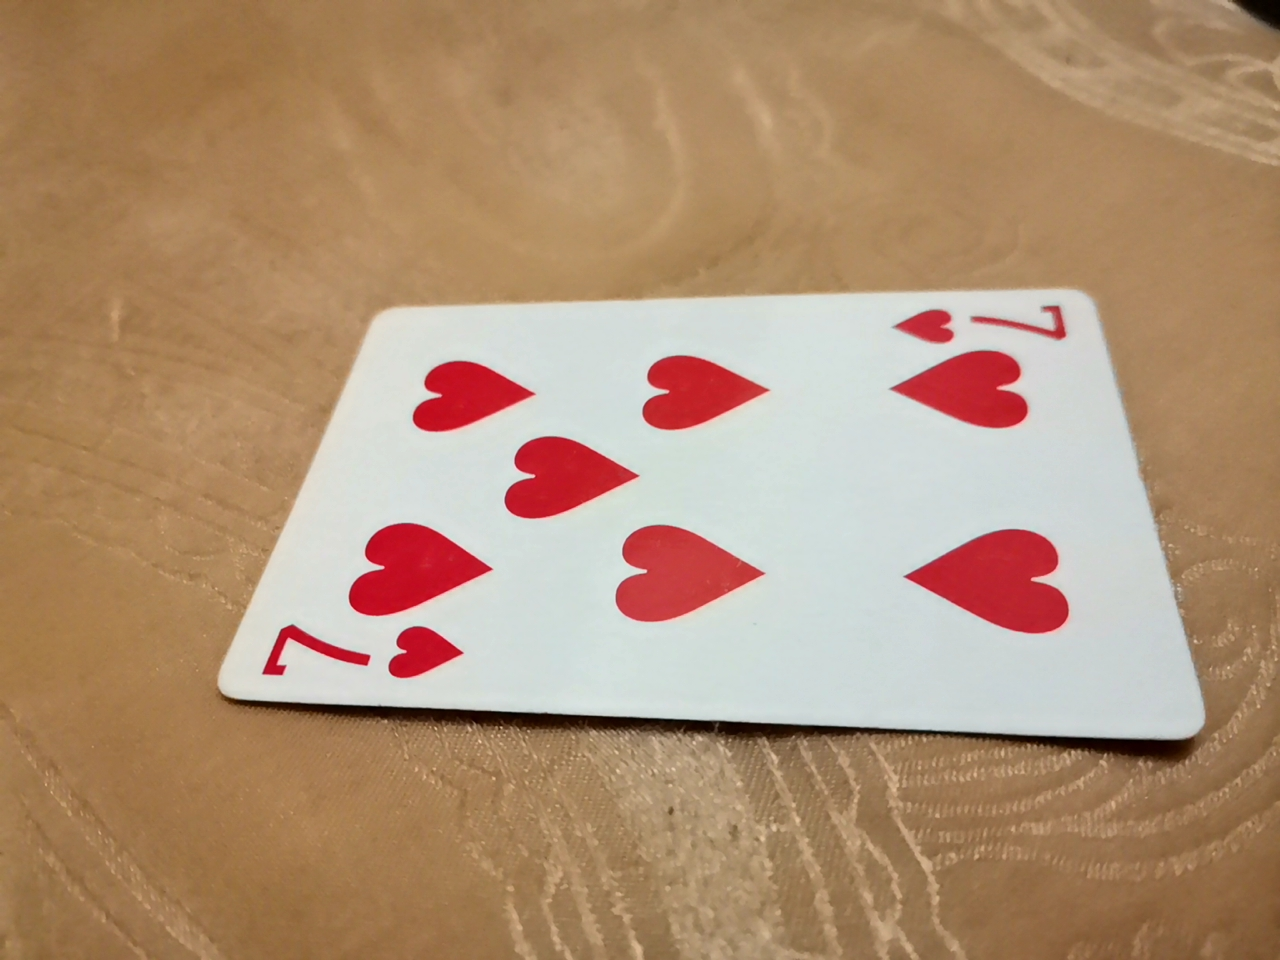hx 7: (215, 291, 1222, 751)
